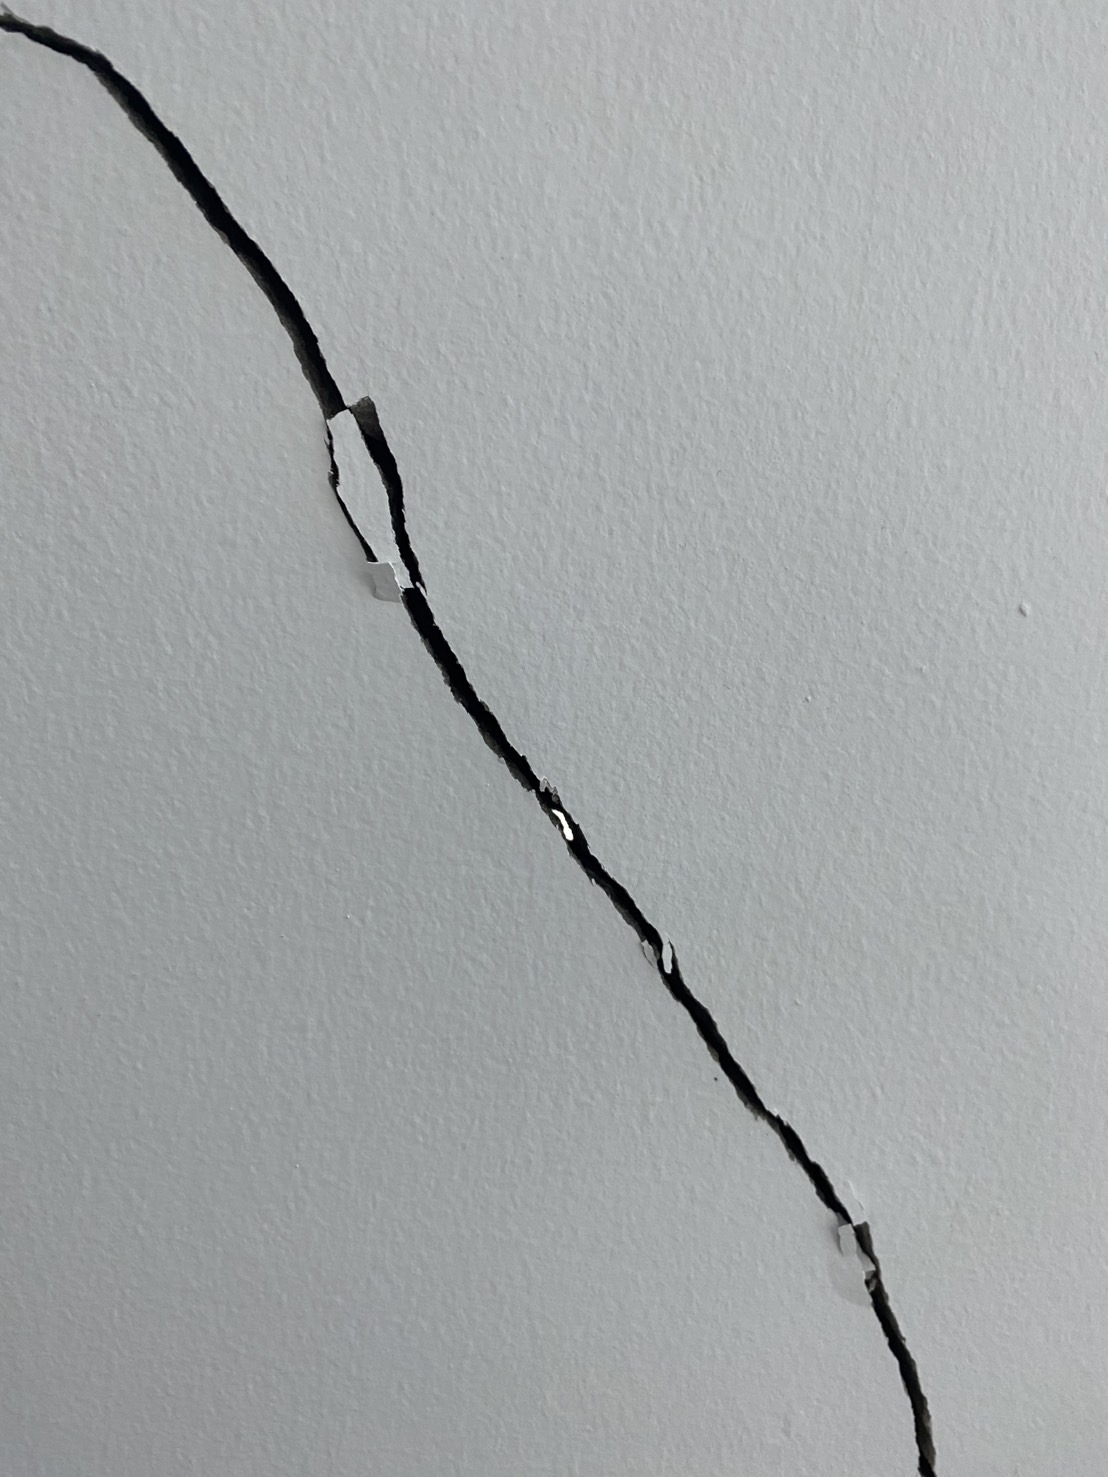Medium: (72, 45, 956, 1386)
